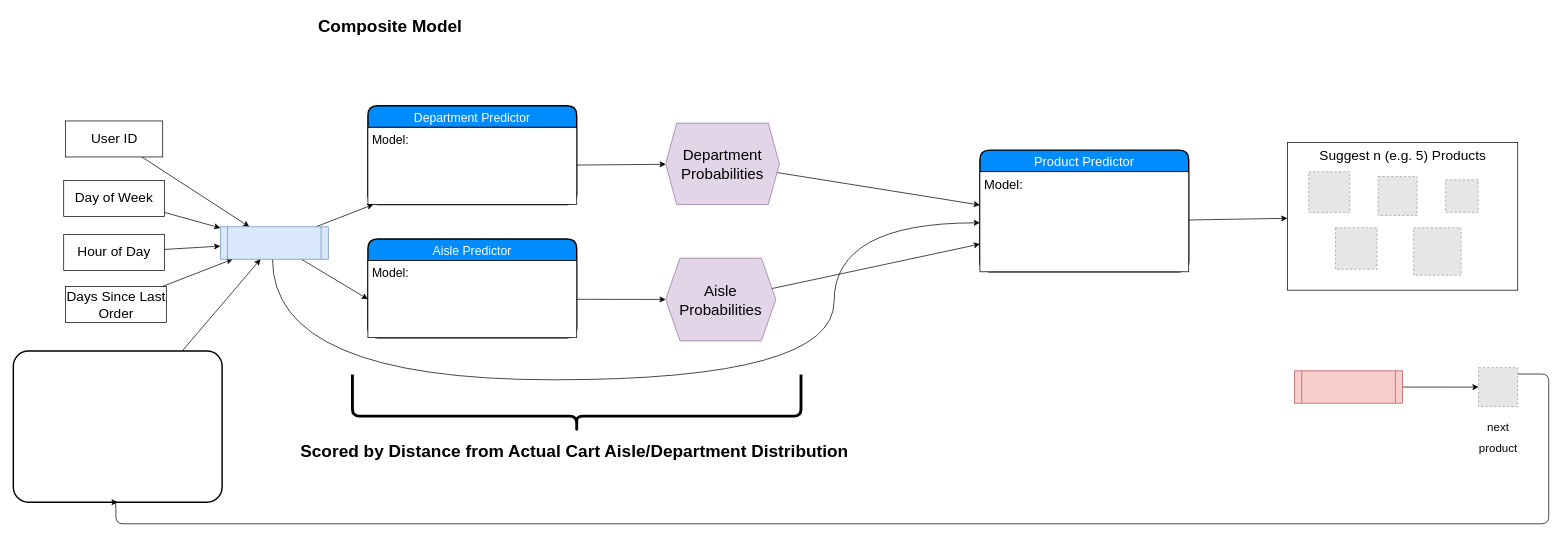
Some shapes in this 1567 by 542 pixel diagram are drawn without their labels. Grey dashed boxes stand in for pictures. Each missing label, with the centre of its shape:
"Cart State (Current Cart Departmental Distribution)" belongs at point (117, 426).
"Givens" belongs at point (274, 242).
"User Action" belongs at point (1348, 386).
